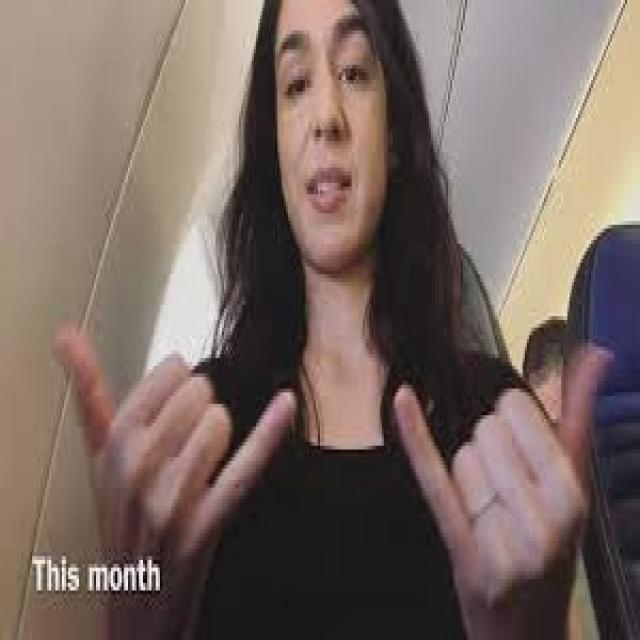now: (41, 298, 621, 620)
